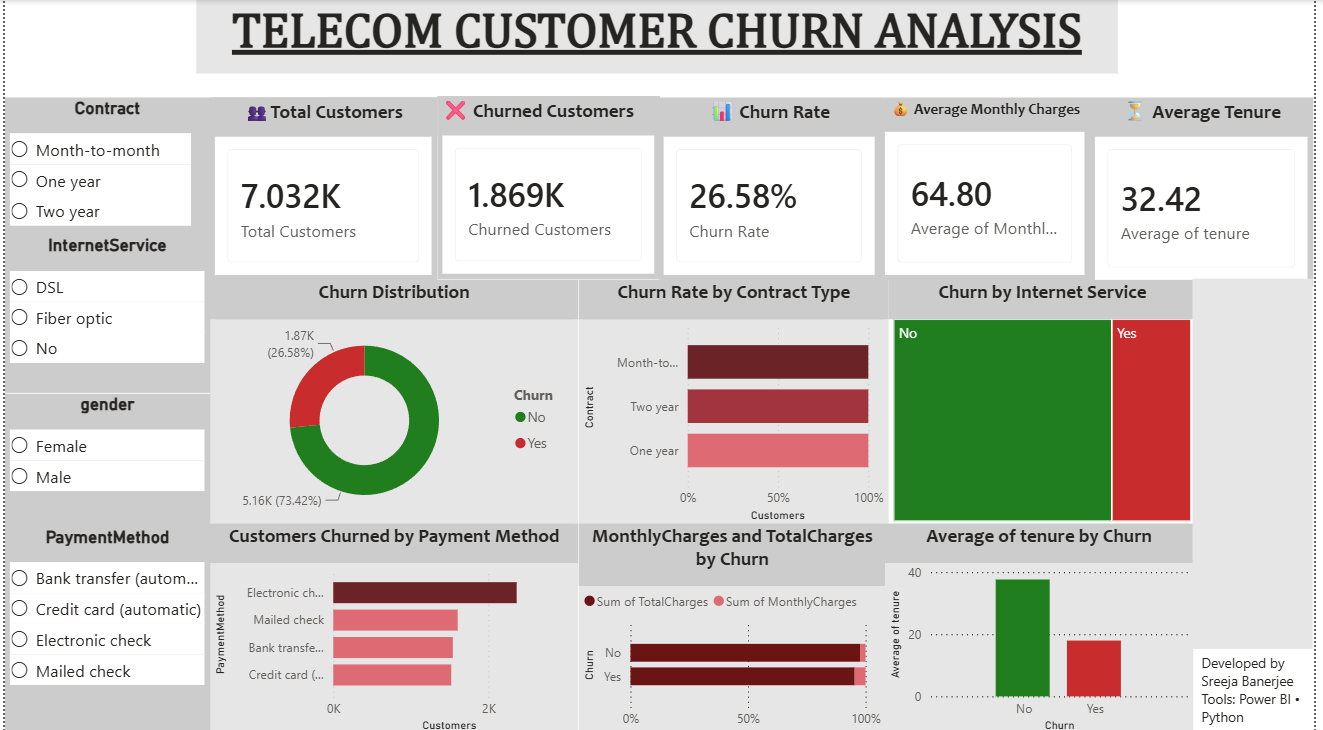

What the dashboard file says about the page in this screenshot:
{"tool":"powerbi","page":{"name":"Executive Overview","canvas":[1280,720],"ordinal":0},"visuals":[{"type":"cardVisual","title":"👥Total Customers ","fields":{"Data":["customer_churn_cleaned-checkpoint.Total Customers"]},"box":[200.5,94.8,222.2,178.8],"z":0},{"type":"cardVisual","title":"📊 Churn Rate","fields":{"Data":["customer_churn_cleaned-checkpoint.Churn Rate"]},"box":[639.5,94.8,216.8,178.8],"z":1000},{"type":"cardVisual","title":"⏳ Average Tenure","fields":{"Data":["Avg(customer_churn_cleaned-checkpoint.tenure)"]},"box":[1061.5,95.1,218.2,183.9],"z":2000},{"type":"cardVisual","title":"❌ Churned Customers","fields":{"Data":["customer_churn_cleaned-checkpoint.Churned Customers"]},"box":[422.6,94.7,217.4,178.8],"z":3000},{"type":"cardVisual","title":"💰 Average Monthly Charges","fields":{"Data":["Avg(customer_churn_cleaned-checkpoint.MonthlyCharges)"]},"box":[855.7,95.1,205.7,179.2],"z":4000},{"type":"donutChart","title":"Churn Distribution","fields":{"Category":["customer_churn_cleaned-checkpoint.Churn"],"Y":["customer_churn_cleaned-checkpoint.Total Customers"]},"box":[200.5,273.7,360.4,241.2],"z":5000},{"type":"barChart","title":"Customers Churned by Payment Method","fields":{"Y":["CountNonNull(customer_churn_cleaned-checkpoint.Churn)"],"Category":["customer_churn_cleaned-checkpoint.PaymentMethod"]},"box":[200.5,512.1,360.4,208.6],"z":6000},{"type":"treemap","title":"Churn by Internet Service","fields":{"Group":["customer_churn_cleaned-checkpoint.Churn"],"Values":["CountNonNull(customer_churn_cleaned-checkpoint.InternetService)"]},"box":[864.5,273.9,300.8,240.9],"z":7000},{"type":"hundredPercentStackedBarChart","title":"Churn Rate by Contract Type","fields":{"Category":["customer_churn_cleaned-checkpoint.Contract"],"Y":["CountNonNull(customer_churn_cleaned-checkpoint.Churn)"]},"box":[560.9,273.7,303.5,241.2],"z":8000},{"type":"hundredPercentStackedBarChart","title":"MonthlyCharges and TotalCharges by Churn","fields":{"Category":["customer_churn_cleaned-checkpoint.Churn"],"Y":["Sum(customer_churn_cleaned-checkpoint.TotalCharges)","Sum(customer_churn_cleaned-checkpoint.MonthlyCharges)"]},"box":[560.9,512.1,300.8,208.6],"z":9000},{"type":"lineClusteredColumnComboChart","fields":{"Category":["customer_churn_cleaned-checkpoint.Churn"],"Y":["Avg(customer_churn_cleaned-checkpoint.tenure)"]},"box":[860.9,512,301.6,208.7],"z":10000},{"type":"listSlicer","fields":{"Values":["customer_churn_cleaned-checkpoint.Contract"]},"box":[0,94.8,200.5,135.5],"z":11000},{"type":"listSlicer","fields":{"Values":["customer_churn_cleaned-checkpoint.InternetService"]},"box":[0,230.3,200.5,154.4],"z":12000},{"type":"listSlicer","fields":{"Values":["customer_churn_cleaned-checkpoint.gender"]},"box":[0,384.8,200.5,130.1],"z":13000},{"type":"listSlicer","fields":{"Values":["customer_churn_cleaned-checkpoint.PaymentMethod"]},"box":[0,514.8,200.5,205.9],"z":14000},{"type":"textbox","box":[187.6,0,901.3,71.9],"z":15000},{"type":"textbox","box":[1165.4,634.7,113.7,85.6],"z":16000},{"type":"shape","box":[1162.1,273,117.5,362.1],"z":17000}]}

Visuals, with their boxes in screenshot pixels (x1, y1, x2, y2), scaled from the page's 1280x720 canvas onto the 1323x730 screenshot:
"👥Total Customers " cardVisual: {"x1": 207, "y1": 96, "x2": 437, "y2": 277}
"📊 Churn Rate" cardVisual: {"x1": 661, "y1": 96, "x2": 885, "y2": 277}
"⏳ Average Tenure" cardVisual: {"x1": 1097, "y1": 96, "x2": 1322, "y2": 283}
"❌ Churned Customers" cardVisual: {"x1": 437, "y1": 96, "x2": 662, "y2": 277}
"💰 Average Monthly Charges" cardVisual: {"x1": 884, "y1": 96, "x2": 1097, "y2": 278}
"Churn Distribution" donutChart: {"x1": 207, "y1": 278, "x2": 580, "y2": 522}
"Customers Churned by Payment Method" barChart: {"x1": 207, "y1": 519, "x2": 580, "y2": 729}
"Churn by Internet Service" treemap: {"x1": 894, "y1": 278, "x2": 1204, "y2": 522}
"Churn Rate by Contract Type" hundredPercentStackedBarChart: {"x1": 580, "y1": 278, "x2": 893, "y2": 522}
"MonthlyCharges and TotalCharges by Churn" hundredPercentStackedBarChart: {"x1": 580, "y1": 519, "x2": 891, "y2": 729}
lineClusteredColumnComboChart - customer_churn_cleaned-checkpoint.Churn x Avg(customer_churn_cleaned-checkpoint.tenure): {"x1": 890, "y1": 519, "x2": 1202, "y2": 729}
listSlicer - customer_churn_cleaned-checkpoint.Contract: {"x1": 0, "y1": 96, "x2": 207, "y2": 233}
listSlicer - customer_churn_cleaned-checkpoint.InternetService: {"x1": 0, "y1": 233, "x2": 207, "y2": 390}
listSlicer - customer_churn_cleaned-checkpoint.gender: {"x1": 0, "y1": 390, "x2": 207, "y2": 522}
listSlicer - customer_churn_cleaned-checkpoint.PaymentMethod: {"x1": 0, "y1": 522, "x2": 207, "y2": 729}
textbox: {"x1": 194, "y1": 0, "x2": 1125, "y2": 73}
textbox: {"x1": 1205, "y1": 644, "x2": 1322, "y2": 729}
shape: {"x1": 1201, "y1": 277, "x2": 1322, "y2": 644}
